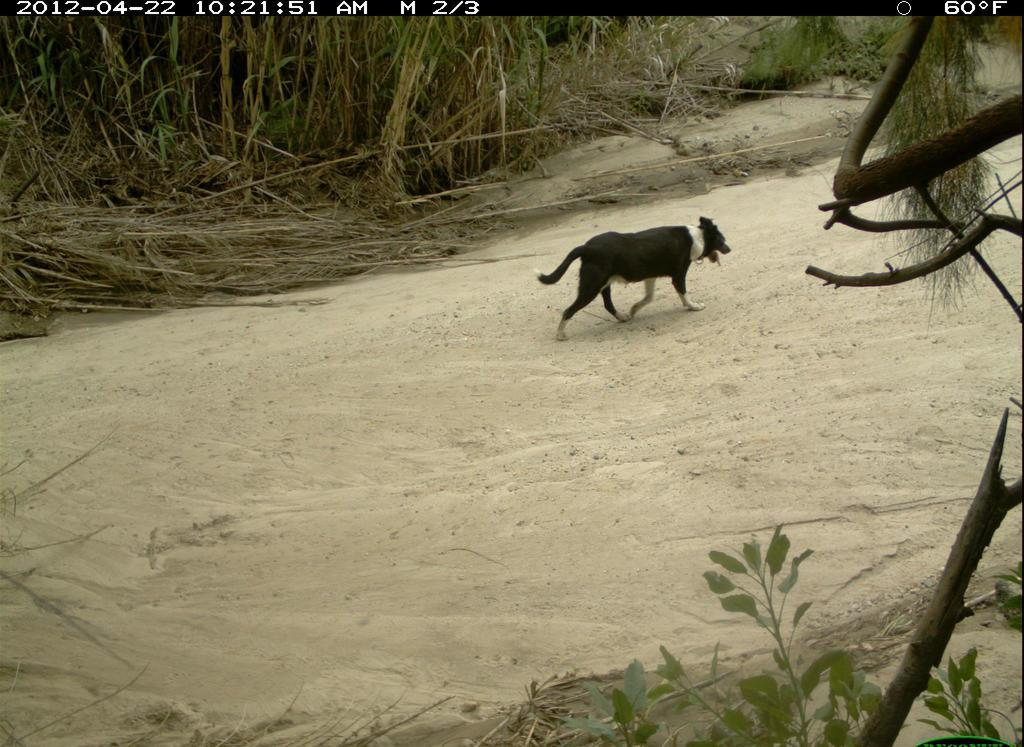dog: (534, 216, 737, 347)
